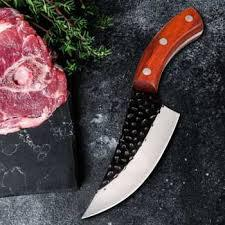knives: (81, 6, 211, 223)
